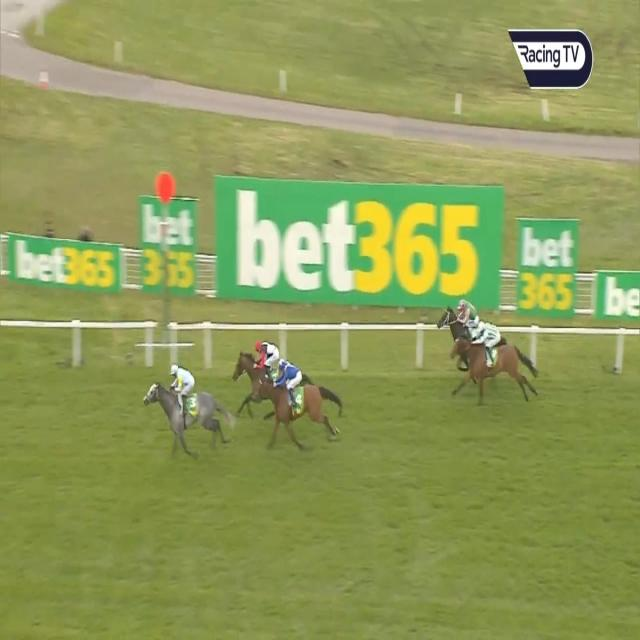horses-racing: (142, 360, 224, 452), (252, 356, 332, 446), (454, 318, 516, 414), (234, 337, 276, 407), (436, 294, 480, 339)
